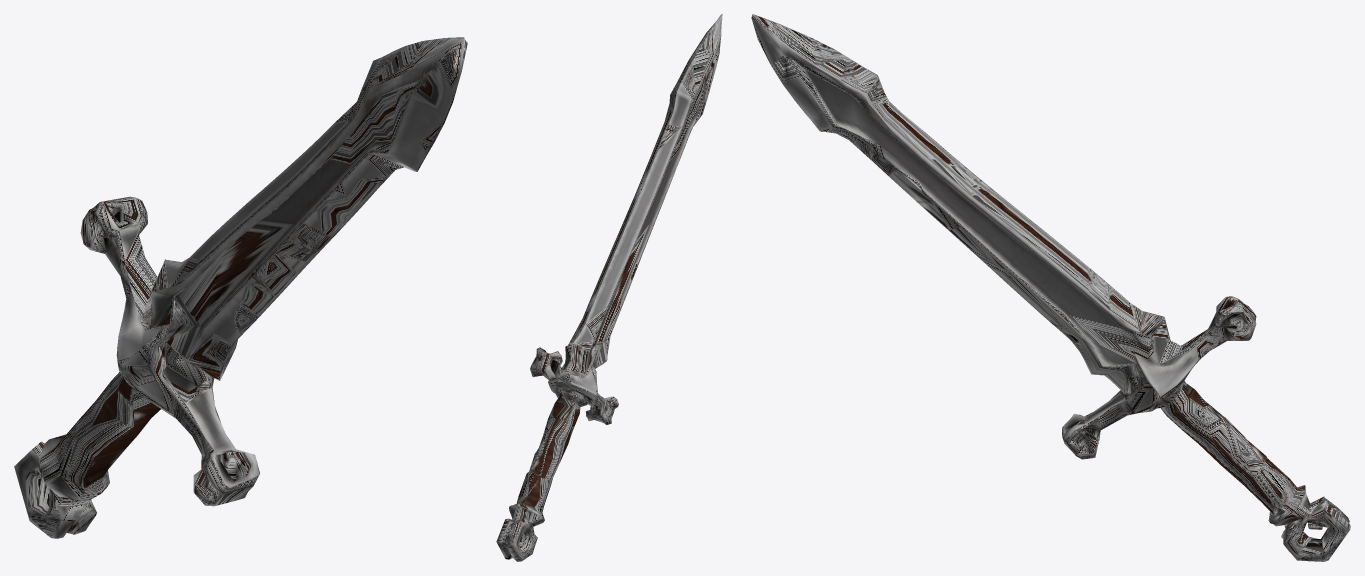
File: w_highland_claymore.glb
3 renders of one model, left to right at view 1: azimuth 30°, elevation 25°; view 2: azimuth 150°, elevation 25°; view 3: azimuth 270°, elevation 25°, orthographic. The views are drawn at different scales.
Size of the model in its own units: 0.1281 by 0.9994 by 1.
Materials: 1 (1 with a texture image).
